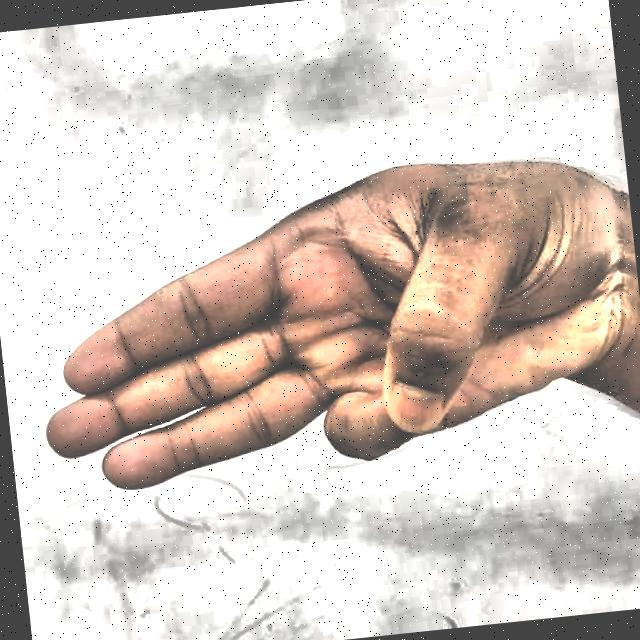Ma: (7, 130, 640, 548)
